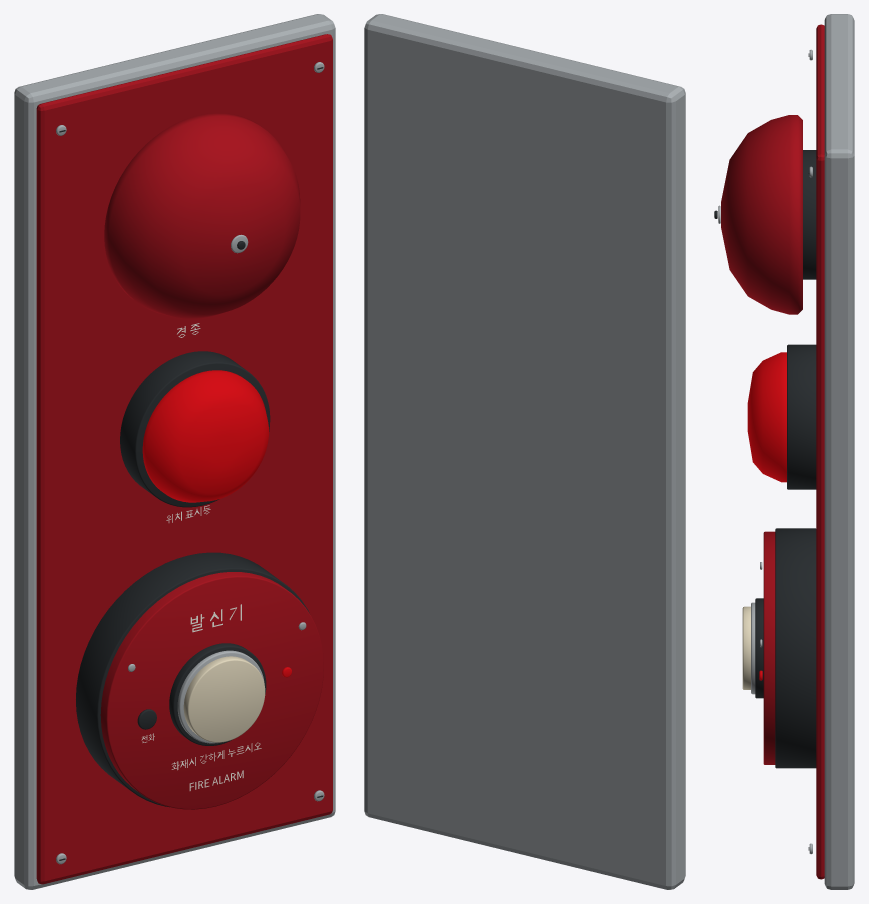
The model's file is WallAlarm.fbx.
The picture shows the model from 3 angles, left to right: view 1: azimuth 30°, elevation 25°; view 2: azimuth 150°, elevation 25°; view 3: azimuth 270°, elevation 25°; orthographic projection. The views are drawn at different scales.
Visible parts, largest first — view 1: Housing, MovingCap; view 2: Housing; view 3: Housing, MovingCap.
Boxes of the visible parts, box(x1,y1,x2,y2) form: Housing: box(14, 14, 335, 889); MovingCap: box(183, 656, 265, 742); Housing: box(364, 14, 685, 889); Housing: box(714, 14, 854, 889); MovingCap: box(742, 606, 750, 689).
Size of the model in its own units: 20 by 49 by 8.4.
